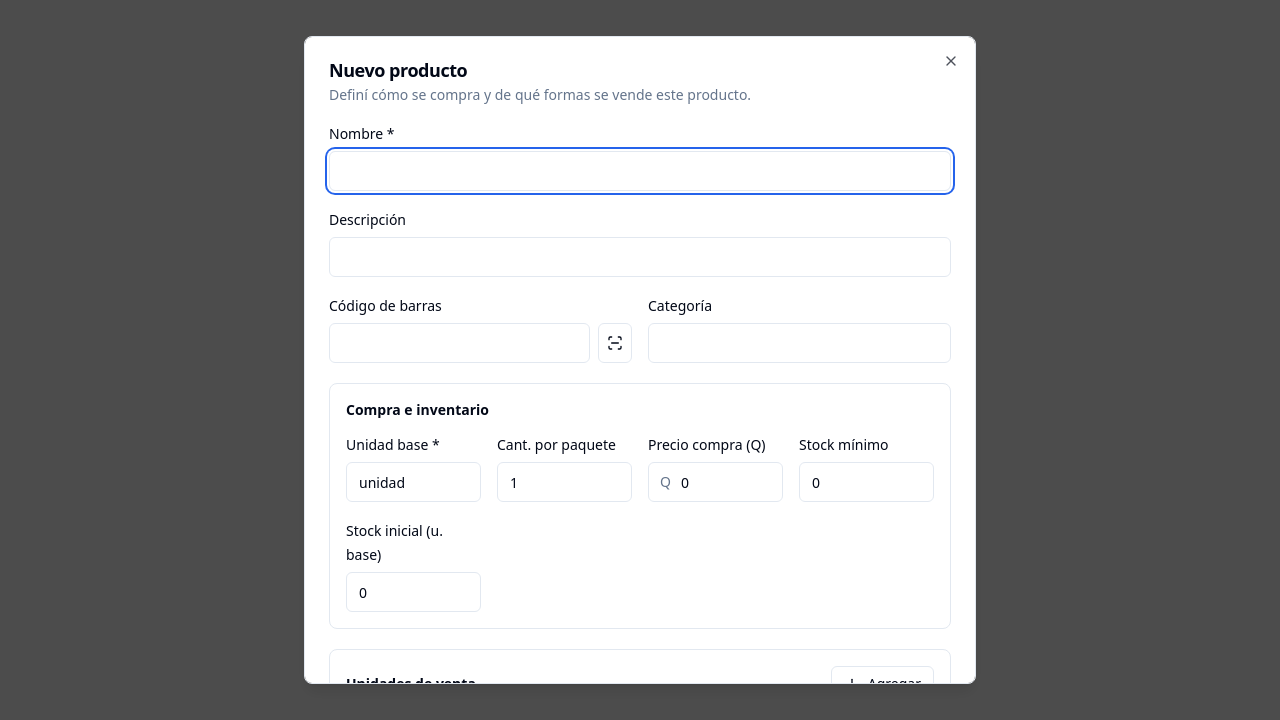
<ProductFormModal /> › BUG-036: a negative purchase price shows a message and is not saved
The image size is (1280, 720).
Type "Producto QA" into the field labelled "Nombre *" at coordinates (640, 171), box 329,151 -> 951,191
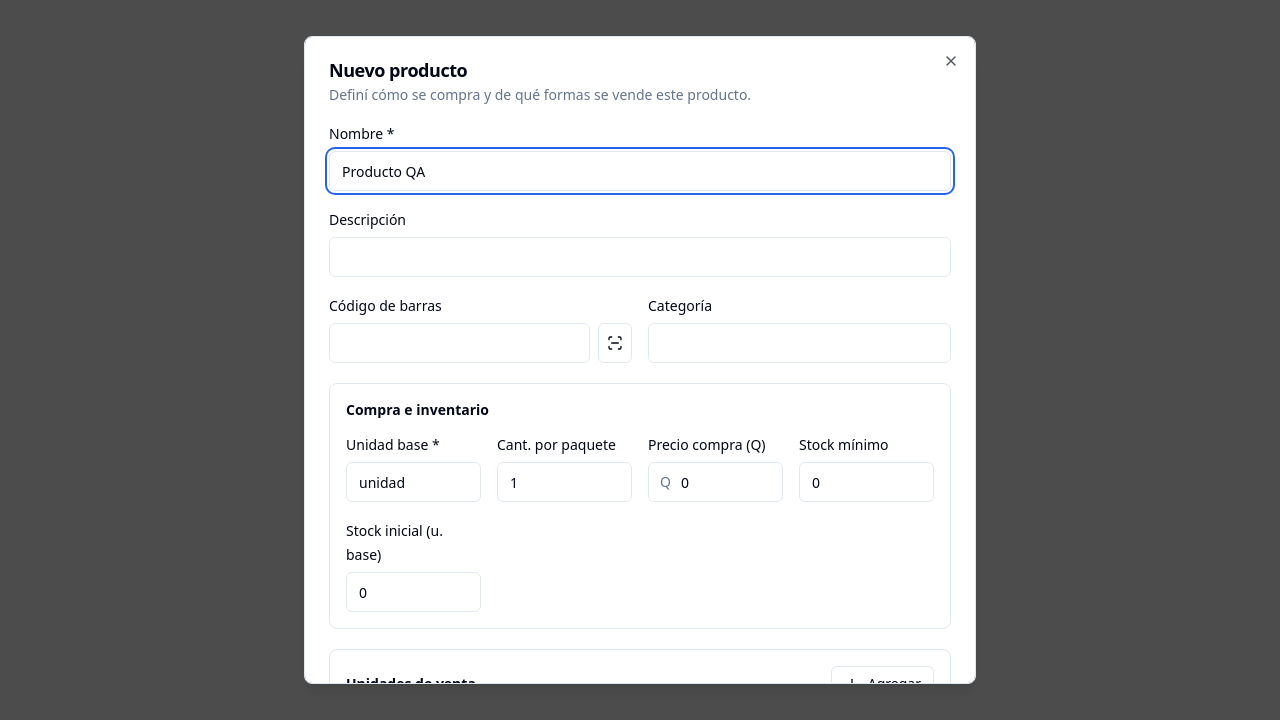
Replace the text in the number field labelled "Precio compra (Q)" with "-10" at coordinates (716, 482), box 648,462 -> 783,502
(page scrolled)
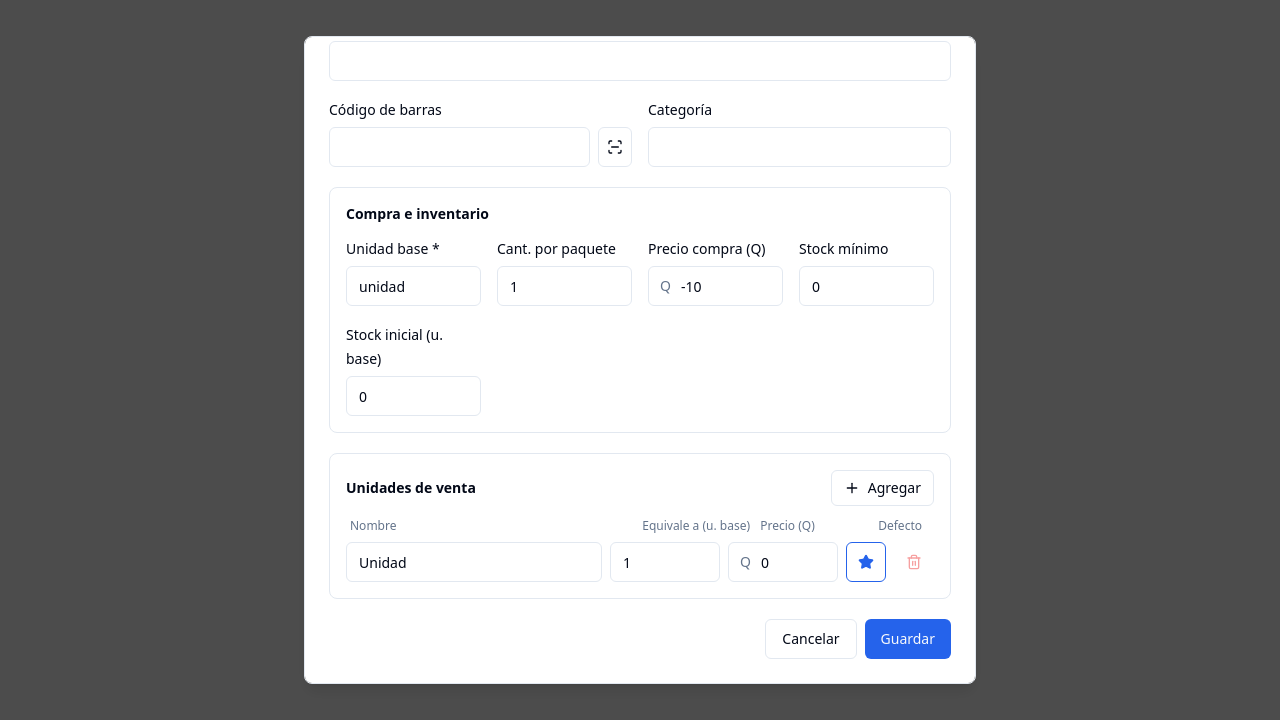
Click the button "Guardar" at coordinates (908, 639), box 864,619 -> 951,659
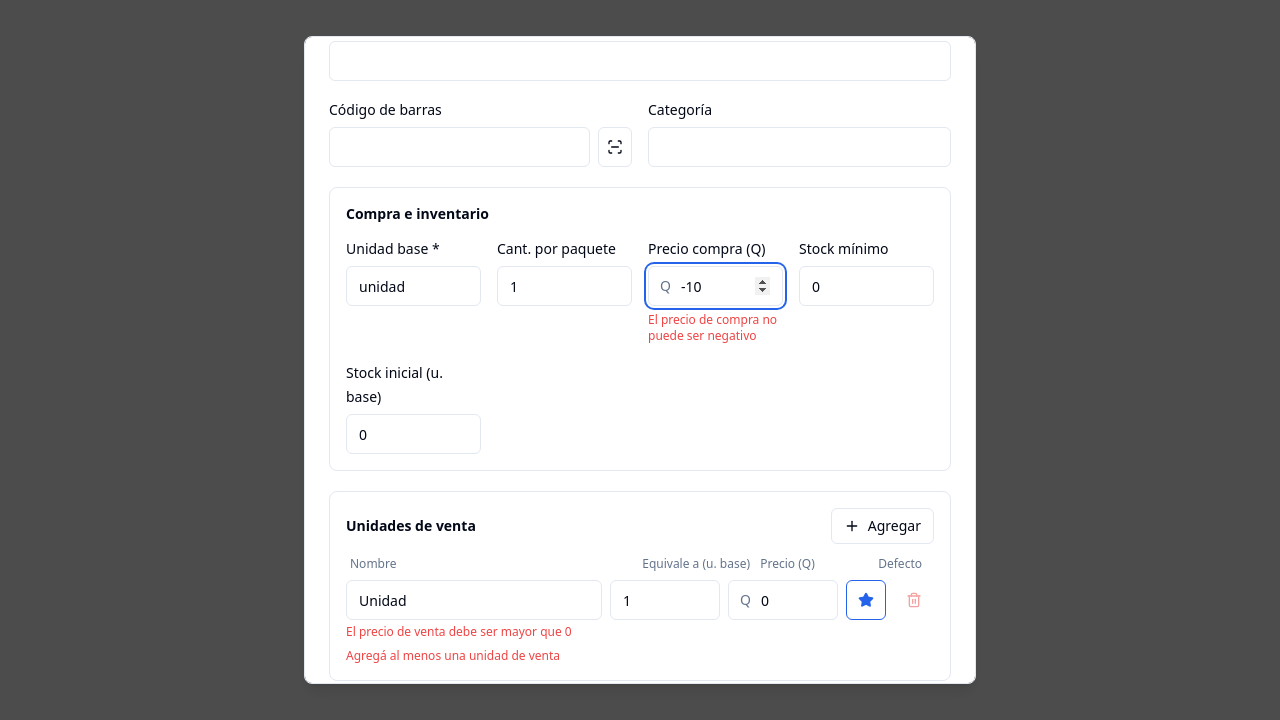
Now the text "El precio de compra no puede ser negativo" is shown, box 648,312 -> 783,344
